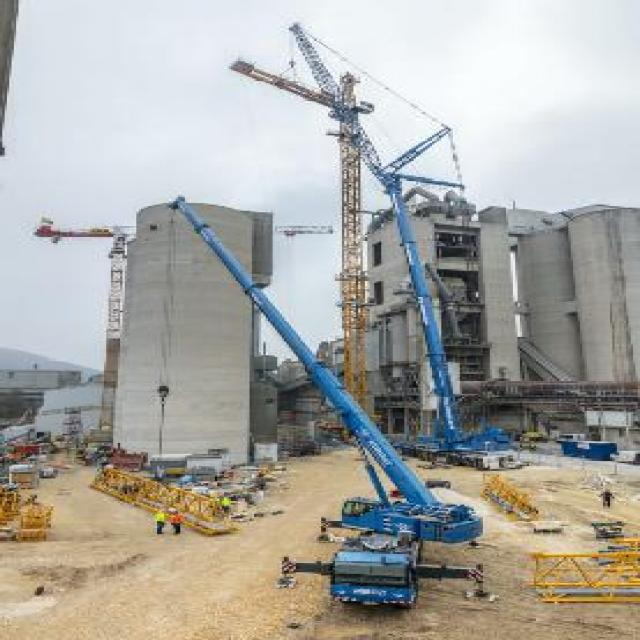Mobile Crane: (166, 194, 483, 609), (291, 23, 518, 468)
